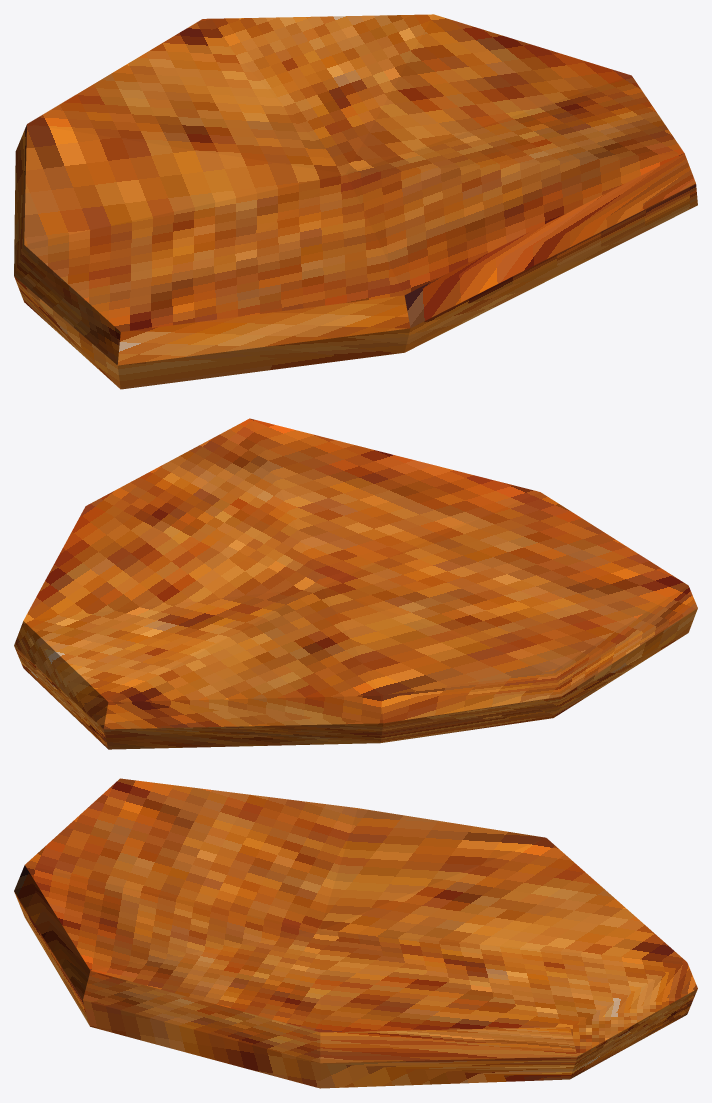
File: schabow.glb
3 views of the same model, one above another, from view 1: azimuth 30°, elevation 25°; view 2: azimuth 150°, elevation 25°; view 3: azimuth 270°, elevation 25° (orthographic). The views are drawn at different scales.
Parts seen in each view (by area): view 1: schabowy; view 2: schabowy; view 3: schabowy.
Part boxes in pixels (x1,y1,x2,y2): schabowy: (14, 14, 697, 389); schabowy: (14, 418, 697, 749); schabowy: (14, 778, 697, 1088).
Size of the model in its own units: 2.31 by 0.4877 by 2.34.
1 material, 1 textured.
